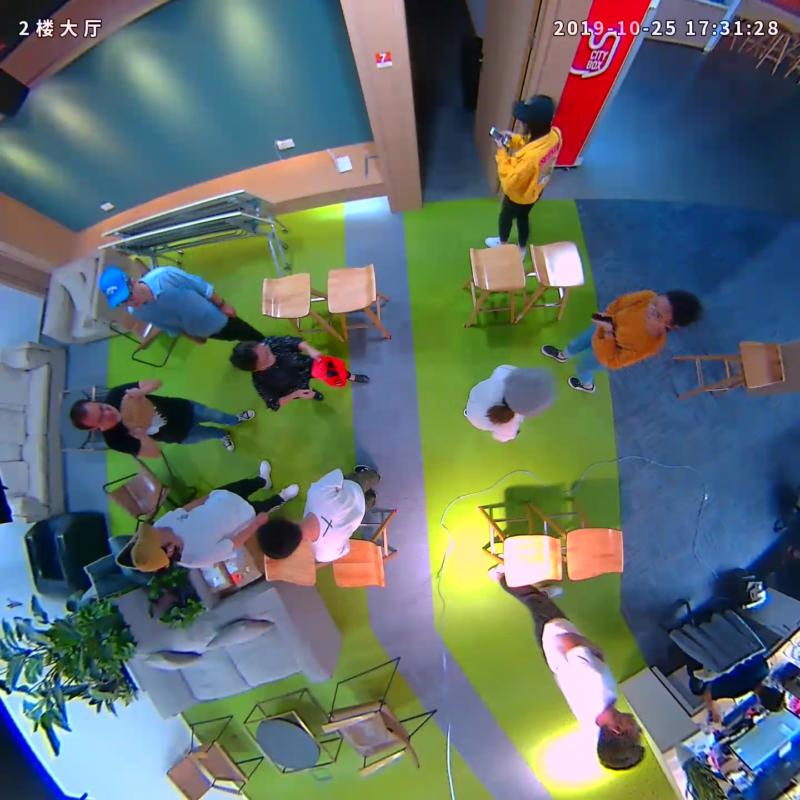head: (596, 711, 646, 770), (503, 365, 555, 415), (129, 521, 176, 573), (643, 289, 701, 330), (255, 515, 303, 559), (98, 265, 143, 311), (511, 93, 555, 129), (230, 338, 277, 371), (70, 398, 116, 430)
